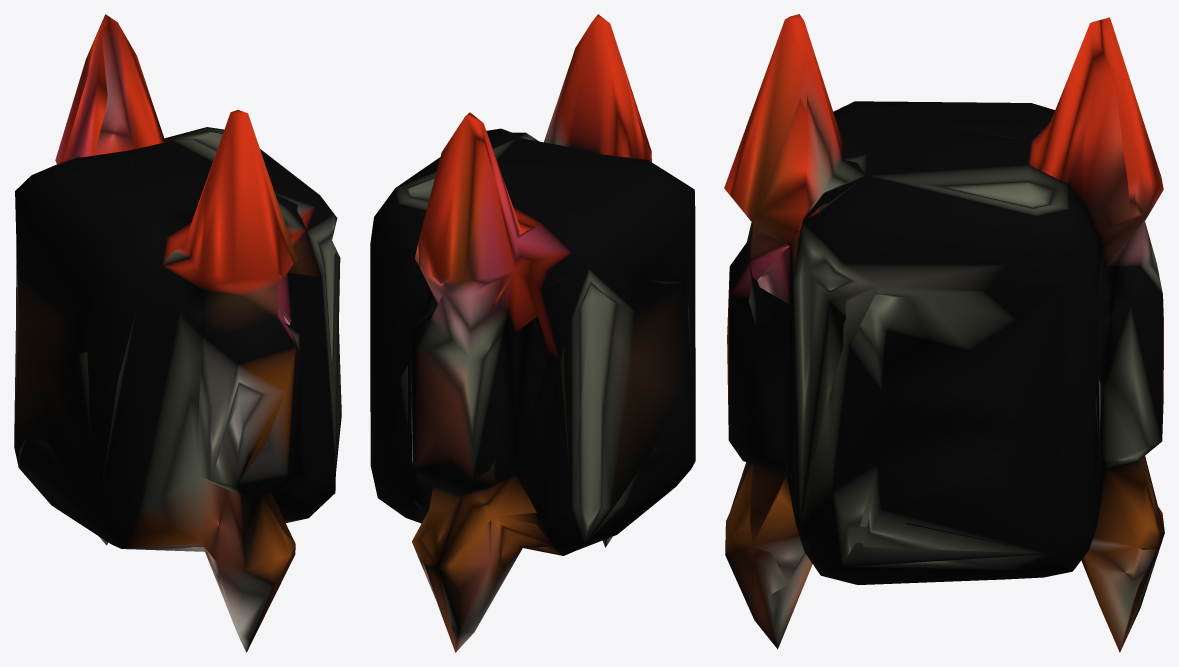
The model's file is gen3d-jetpack-lod1.glb.
The picture shows the model from 3 angles, left to right: view 1: azimuth 30°, elevation 25°; view 2: azimuth 150°, elevation 25°; view 3: azimuth 270°, elevation 25°; orthographic projection. The views are drawn at different scales.
Visible parts, largest first — view 1: part_0; view 2: part_0; view 3: part_0.
Part boxes in pixels (bbox=[...]): part_0: bbox=[14, 14, 341, 652]; part_0: bbox=[370, 14, 695, 652]; part_0: bbox=[724, 14, 1164, 652].
Bounding box in the file's own units: 0.5039 × 0.9982 × 0.6301.
